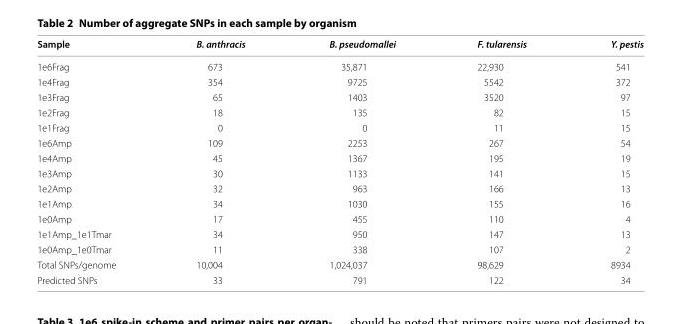table: (36, 37, 642, 285)
table column: (286, 37, 435, 285), (435, 37, 568, 285), (155, 37, 286, 285), (36, 37, 155, 285), (568, 37, 642, 285)
table column header: (36, 37, 642, 54)
table row: (36, 54, 642, 73), (36, 37, 642, 54), (36, 73, 642, 89), (36, 134, 642, 150), (36, 195, 642, 211), (36, 256, 642, 272), (36, 89, 642, 104), (36, 104, 642, 119), (36, 119, 642, 134), (36, 150, 642, 165), (36, 165, 642, 180), (36, 180, 642, 195), (36, 211, 642, 226), (36, 226, 642, 241), (36, 241, 642, 256), (36, 272, 642, 285)
